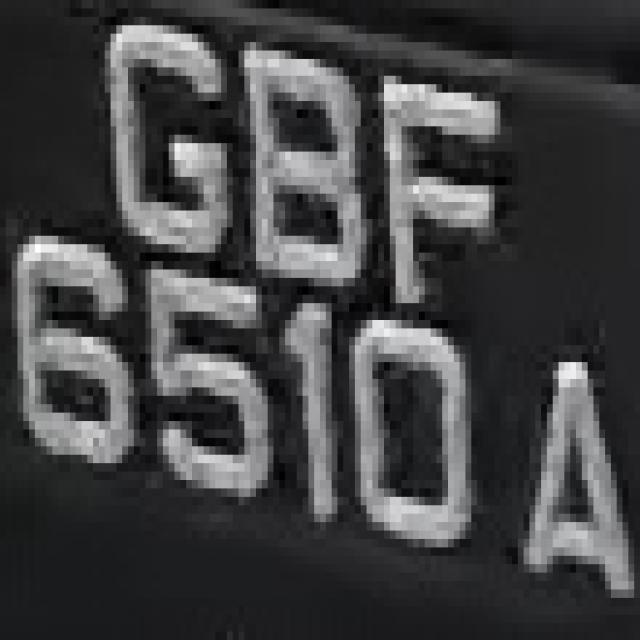0: (343, 278, 483, 556)
1: (274, 294, 349, 530)
5: (122, 253, 268, 497)
6: (12, 202, 134, 497)
A: (506, 303, 634, 632)
B: (221, 17, 378, 311)
F: (361, 8, 506, 320)
G: (99, 8, 238, 270)
